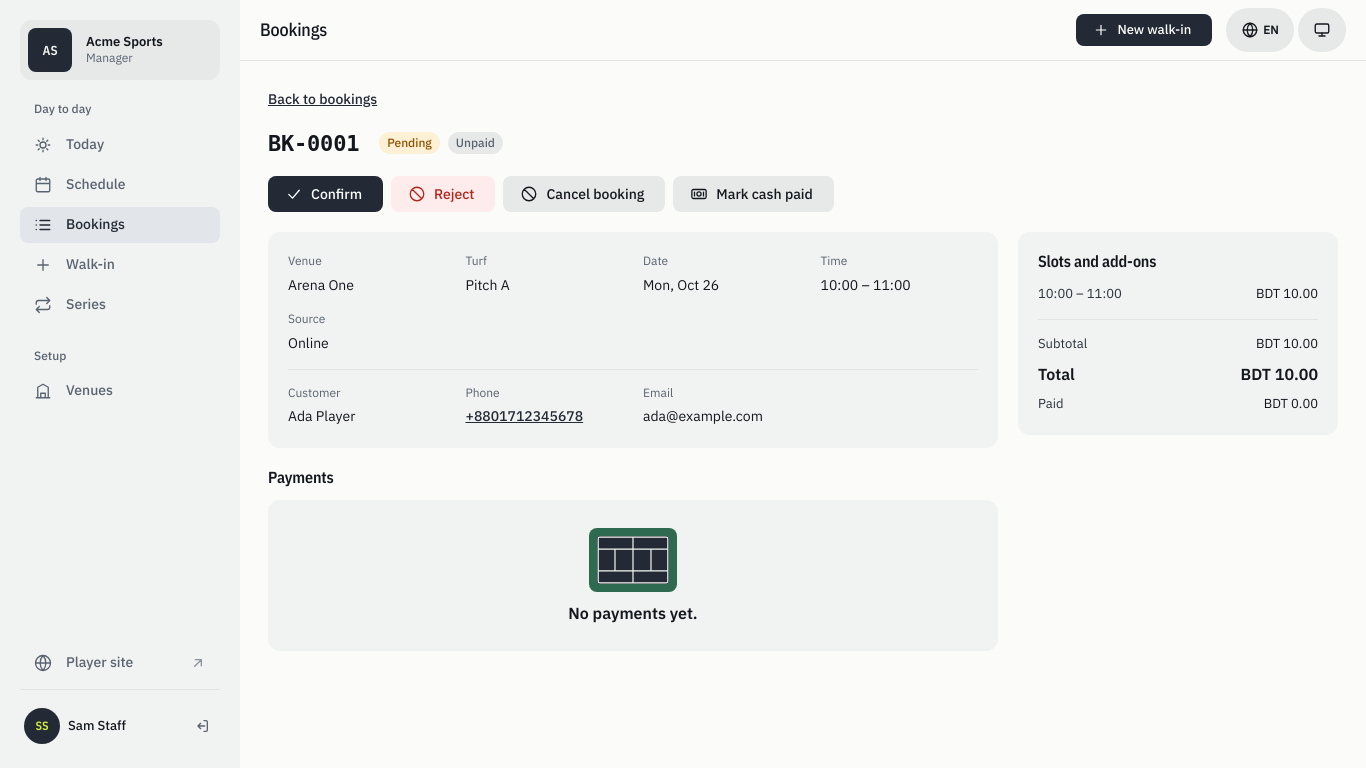
it: owner booking detail › a failed reject shows the error once
Step 1. Click the button "Reject" → (443, 194), box [391,176,496,212]
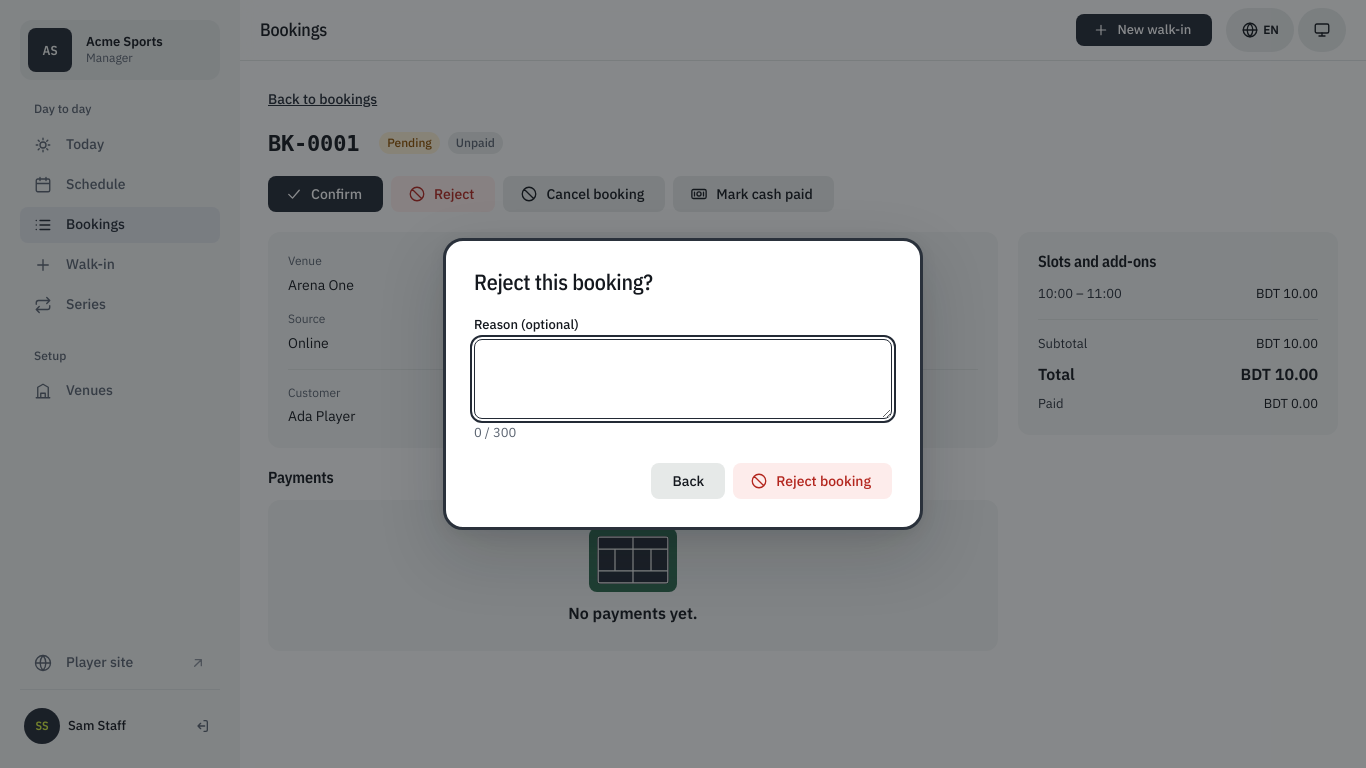
Step 2. Click the button "Reject booking" → (813, 481), box [733,463,892,499]
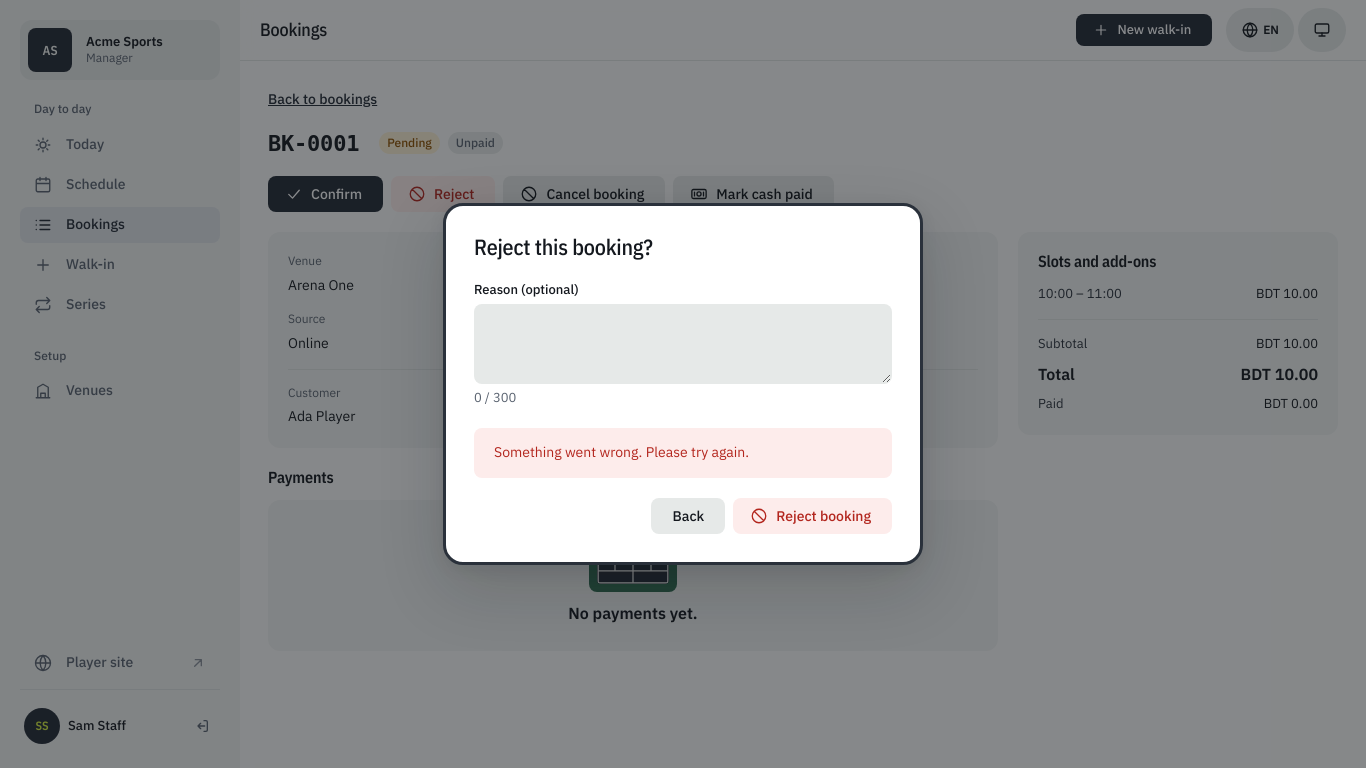
Check: the number of messages is 1, box [474,428,892,478]
